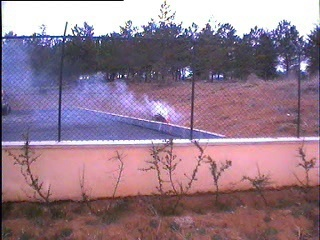smoke: (76, 67, 177, 122)
